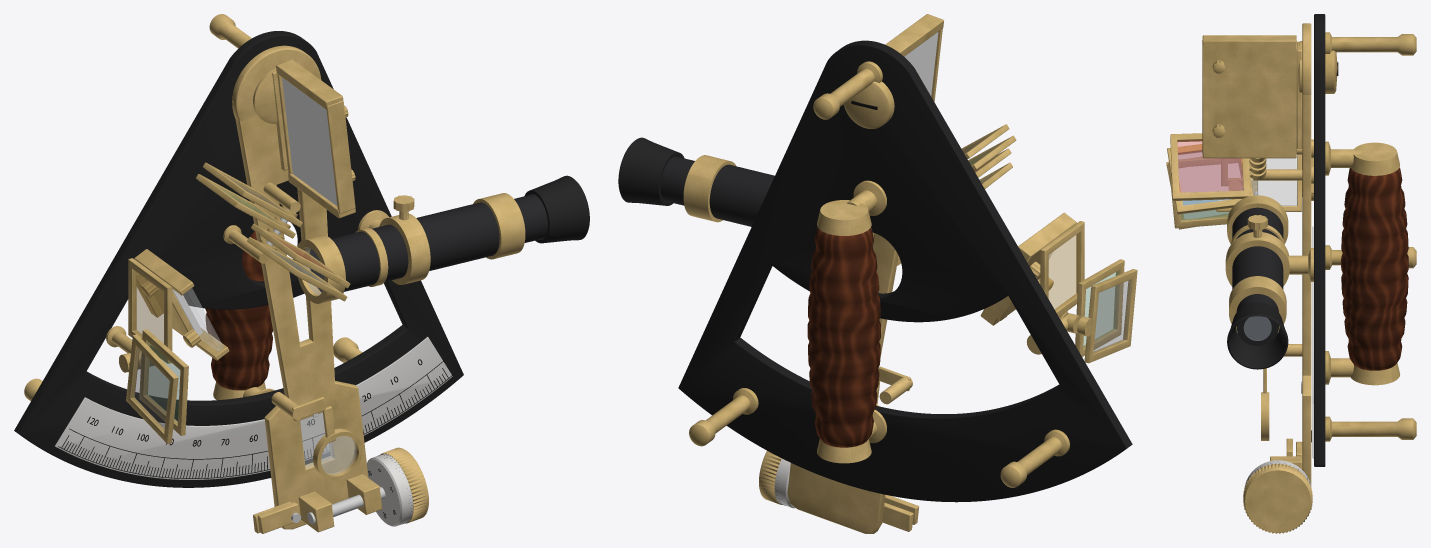
Rendered from sestante.glb.
The picture shows the model from 3 angles, left to right: view 1: azimuth 30°, elevation 25°; view 2: azimuth 150°, elevation 25°; view 3: azimuth 270°, elevation 25°; orthographic projection. The views are drawn at different scales.
Parts seen in each view (by area): view 1: Frame, Index_Arm_Plate, Scale_Arc, Scope_Tube, Handle_Wood, IM_Mirror, Scope_Eyecup, Drum_Scale, Scale_Graduations, Horizon_Shade_2_Frame, IM_TopLip, Horizon_Shade_2_Glass (+24 smaller); view 2: Frame, Handle_Wood, Index_Arm_Plate, Scope_Tube, Scope_Eyecup, Horizon_Shade_2_Glass, Horizon_Shade_2_Frame, Horizon_Shade_0_Glass, Scope_Focus_Knurl, Pivot_Boss_Back, Horizon_Shade_1_Frame, Ferrule_Top (+14 smaller); view 3: Handle_Wood, IM_BackPlate, Frame, Index_Arm_Plate, Drum_Knurl, Index_Shade_2_Glass, Index_Shade_3_Glass, Scope_Eyecup, Scope_Tube, Leg_1, Index_Shade_2_Frame, Leg_2 (+23 smaller).
Boxes of the visible parts, <box> form: Frame: <box>14,31,463,487</box>; Index_Arm_Plate: <box>232,45,368,529</box>; Scale_Arc: <box>55,336,452,479</box>; Scope_Tube: <box>310,202,499,292</box>; Handle_Wood: <box>205,231,272,390</box>; IM_Mirror: <box>282,77,337,205</box>; Scope_Eyecup: <box>524,175,589,243</box>; Drum_Scale: <box>367,453,413,526</box>; Scale_Graduations: <box>58,358,456,478</box>; Horizon_Shade_2_Frame: <box>126,334,178,443</box>; IM_TopLip: <box>326,100,355,213</box>; Horizon_Shade_2_Glass: <box>131,347,169,431</box>; Frame: <box>678,40,1132,502</box>; Handle_Wood: <box>807,227,880,447</box>; Index_Arm_Plate: <box>787,71,919,533</box>; Scope_Tube: <box>709,164,774,226</box>; Scope_Eyecup: <box>618,137,684,205</box>; Horizon_Shade_2_Glass: <box>1094,279,1131,353</box>; Horizon_Shade_2_Frame: <box>1084,269,1137,363</box>; Horizon_Shade_0_Glass: <box>1049,232,1079,311</box>; Scope_Focus_Knurl: <box>683,155,735,222</box>; Pivot_Boss_Back: <box>843,81,894,128</box>; Horizon_Shade_1_Frame: <box>1075,259,1124,356</box>; Ferrule_Top: <box>817,200,871,235</box>; Handle_Wood: <box>1341,167,1408,370</box>; IM_BackPlate: <box>1203,46,1295,153</box>; Frame: <box>1314,14,1325,466</box>; Index_Arm_Plate: <box>1302,23,1311,485</box>; Drum_Knurl: <box>1243,463,1312,533</box>; Index_Shade_2_Glass: <box>1177,140,1242,192</box>; Index_Shade_3_Glass: <box>1178,152,1242,204</box>; Scope_Eyecup: <box>1227,302,1288,369</box>; Scope_Tube: <box>1232,207,1283,289</box>; Leg_1: <box>1325,416,1416,441</box>; Index_Shade_2_Frame: <box>1170,133,1250,200</box>; Leg_2: <box>1325,32,1416,55</box>.
Bounding box in the file's own units: 0.2499 × 0.2262 × 0.111.
16 materials, 2 textured.
